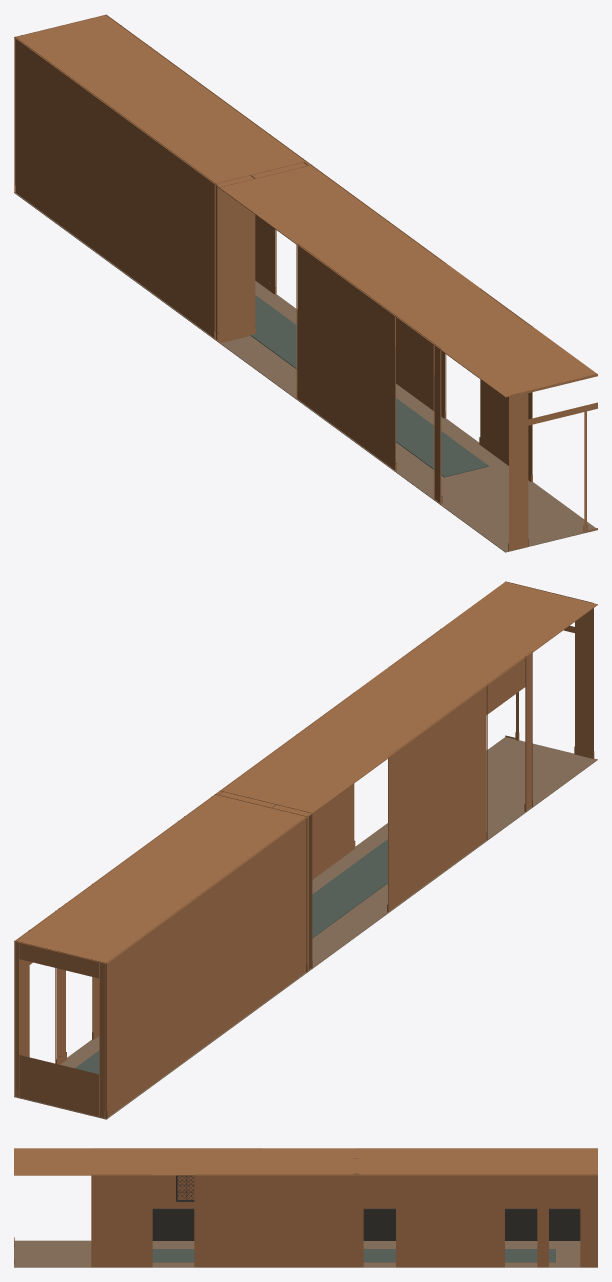
Rendered from corridor-1.glb.
3 renders of one model, top to bottom at view 1: azimuth 30°, elevation 25°; view 2: azimuth 150°, elevation 25°; view 3: azimuth 270°, elevation 25°, orthographic. The views are drawn at different scales.
Visible parts, largest first — view 1: DESIGN | corridor removable wall finish, DESIGN | corridor ceiling finish, DESIGN | corridor floor finish, DESIGN | Terracotta atelier path; view 2: DESIGN | corridor removable wall finish, DESIGN | corridor ceiling finish, DESIGN | corridor floor finish, DESIGN | Terracotta atelier path; view 3: DESIGN | corridor removable wall finish, DESIGN | corridor ceiling finish, DESIGN | corridor floor finish, DESIGN | Atelier lower dark timber field, DESIGN | Terracotta atelier path, DESIGN | Atelier lower dark timber field.001, DESIGN | Kumiko | Atelier squared-hemp cabinet face.001.
Part boxes in pixels (left/top/right/bottom): DESIGN | corridor removable wall finish: left=14, top=14, right=597, bottom=550; DESIGN | corridor ceiling finish: left=14, top=15, right=597, bottom=397; DESIGN | corridor floor finish: left=14, top=192, right=597, bottom=552; DESIGN | Terracotta atelier path: left=250, top=295, right=488, bottom=477; DESIGN | corridor removable wall finish: left=14, top=581, right=594, bottom=1118; DESIGN | corridor ceiling finish: left=14, top=582, right=597, bottom=964; DESIGN | corridor floor finish: left=14, top=737, right=597, bottom=1119; DESIGN | Terracotta atelier path: left=75, top=839, right=387, bottom=1074; DESIGN | corridor removable wall finish: left=14, top=1148, right=597, bottom=1267; DESIGN | corridor ceiling finish: left=14, top=1148, right=597, bottom=1175; DESIGN | corridor floor finish: left=14, top=1240, right=597, bottom=1267; DESIGN | Atelier lower dark timber field: left=363, top=1208, right=580, bottom=1240; DESIGN | Terracotta atelier path: left=152, top=1249, right=555, bottom=1262; DESIGN | Atelier lower dark timber field.001: left=152, top=1208, right=194, bottom=1240; DESIGN | Kumiko | Atelier squared-hemp cabinet face.001: left=176, top=1175, right=194, bottom=1201.
Bounding box in the file's own units: 1.7 × 2.74 × 15.63.
